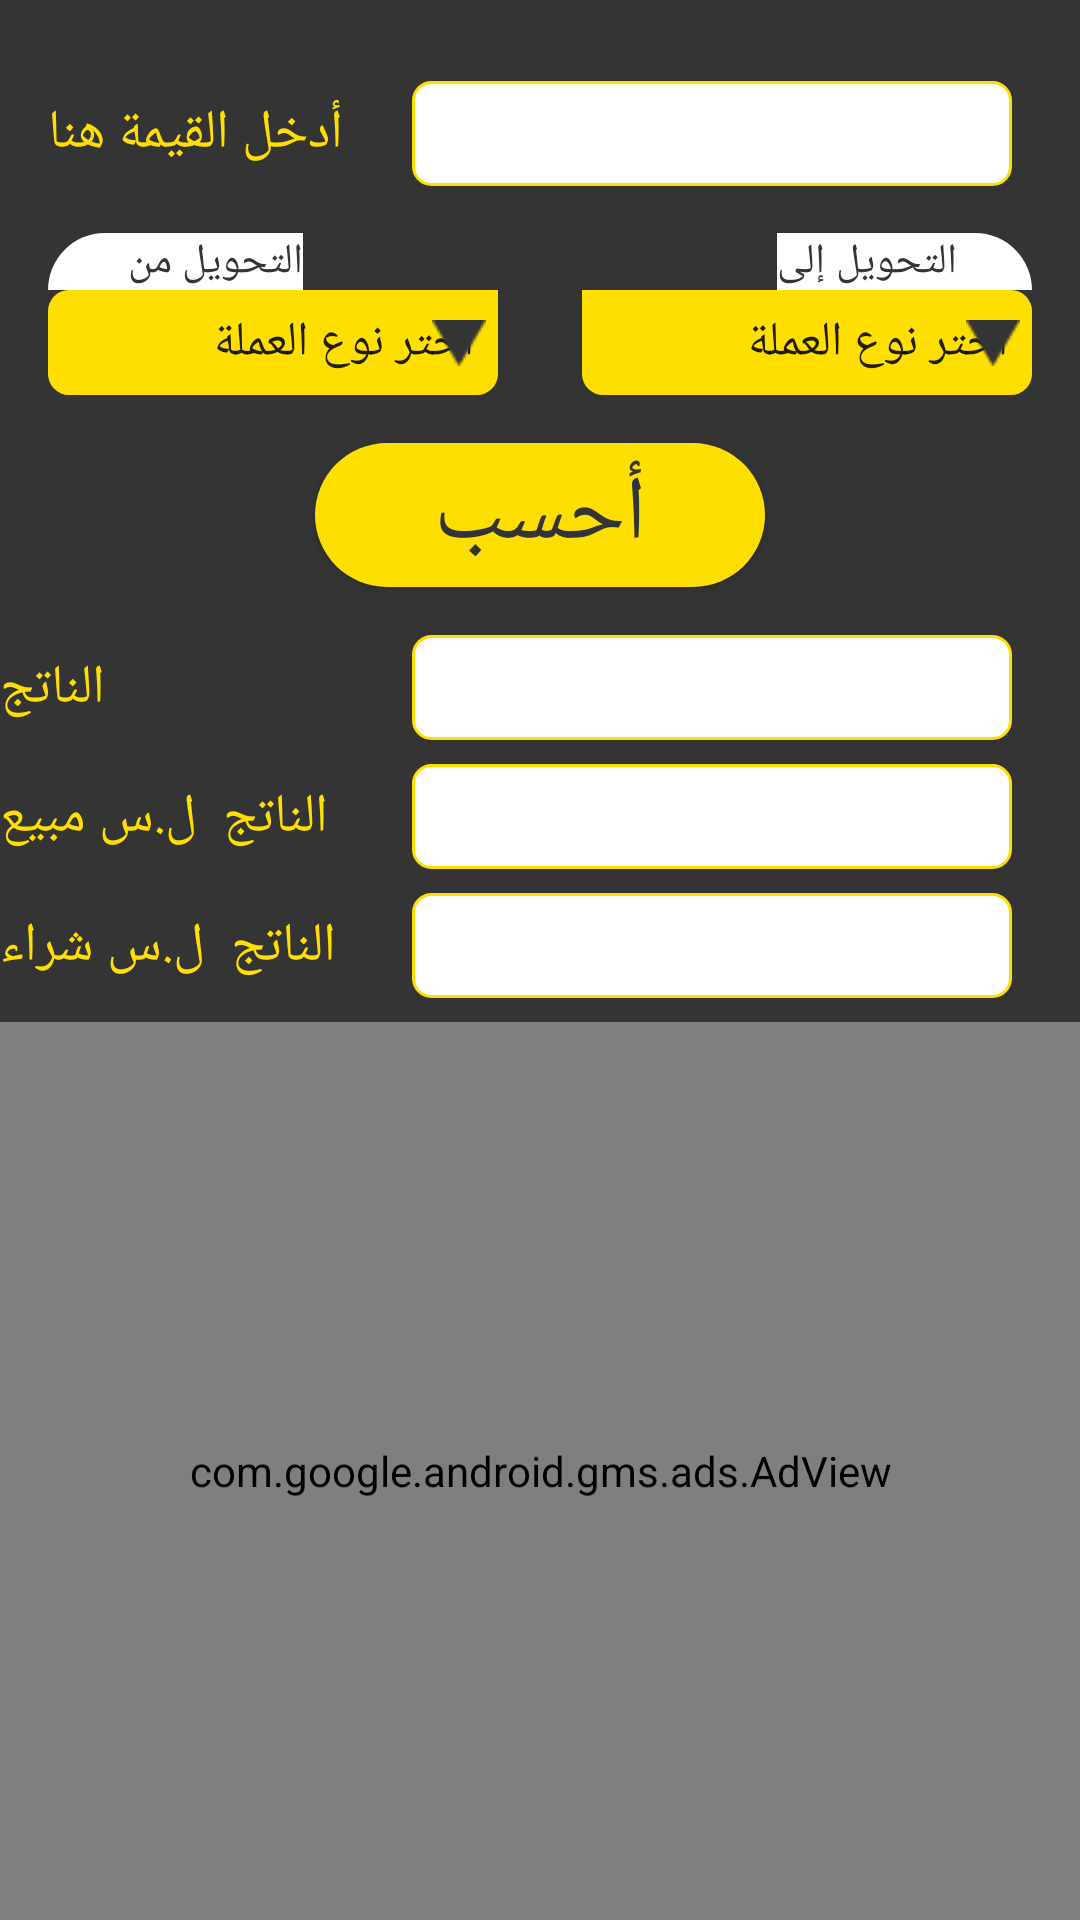

Icons on this 1080 × 1920 Android screen, each with the point to tap as (x,y):
spinner: (459,343), (993,343)
